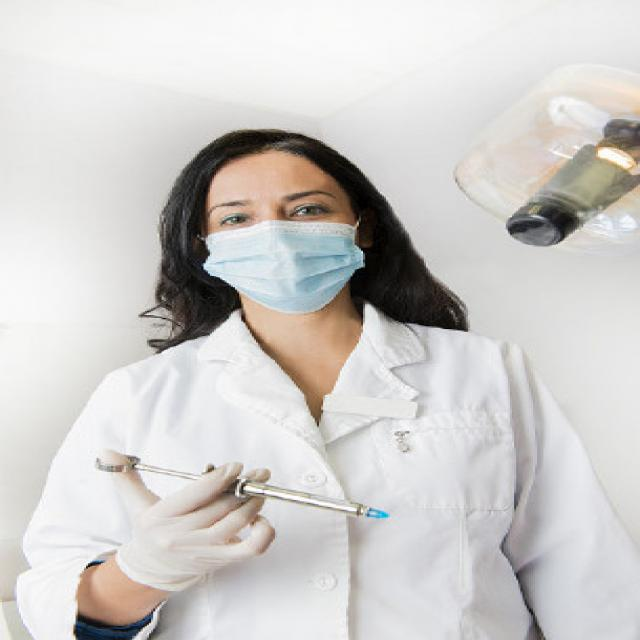mask: (208, 161, 350, 312)
